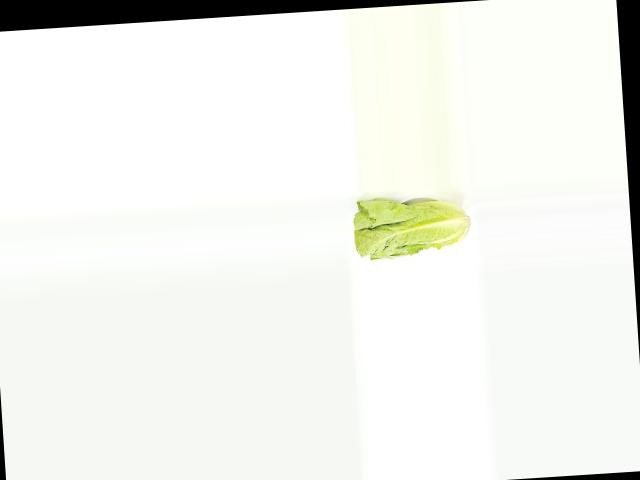lettuce: (351, 191, 473, 263)
